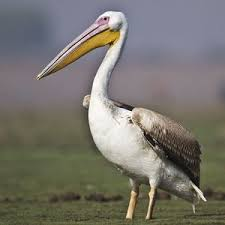pelican: (35, 11, 207, 225)
